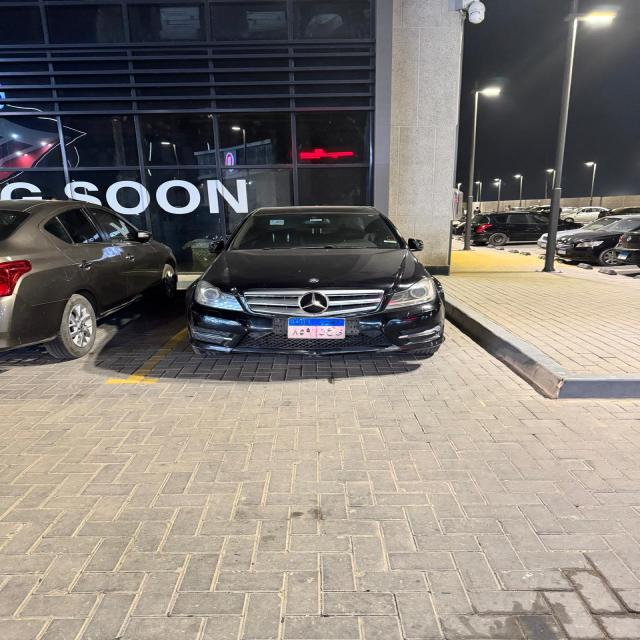car-plate: (290, 319, 344, 338)
